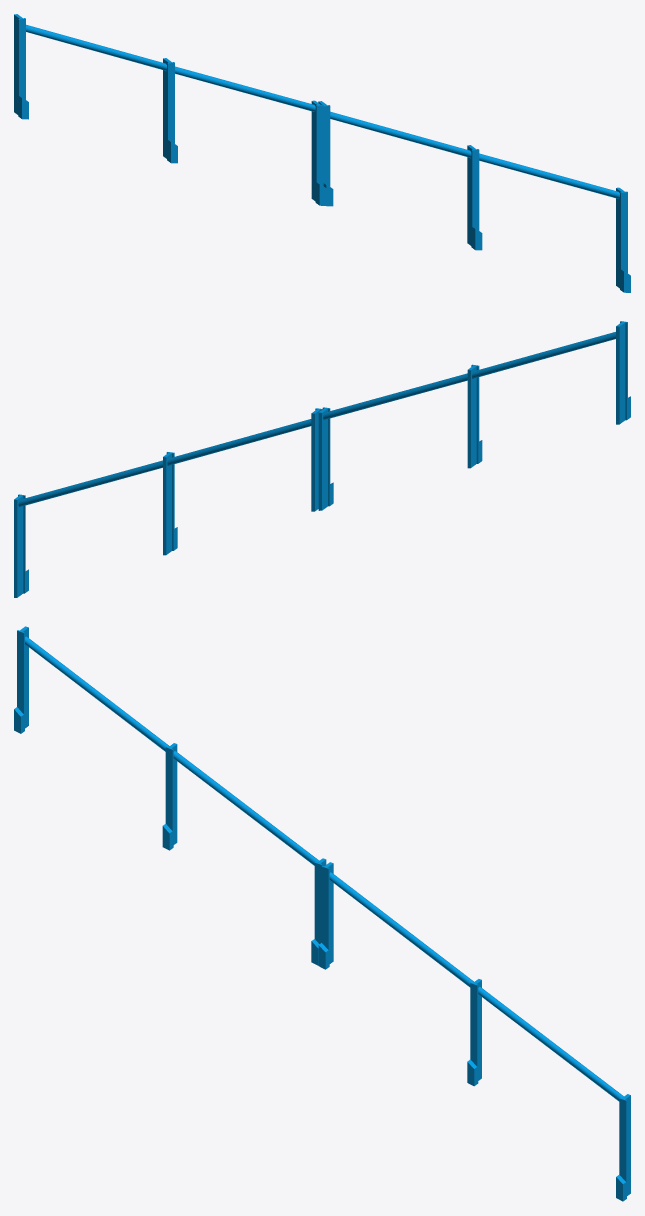
Rendered from Metal_Stairs_01B_Rail.fbx.
3 views of the same model, one above another, from view 1: azimuth 30°, elevation 25°; view 2: azimuth 150°, elevation 25°; view 3: azimuth 330°, elevation 25° (orthographic).
Parts seen in each view (by area): view 1: Metal_Stairs_01B_Rail; view 2: Metal_Stairs_01B_Rail; view 3: Metal_Stairs_01B_Rail.
Part boxes in pixels (left/top/right/bottom): Metal_Stairs_01B_Rail: left=14, top=14, right=630, bottom=292; Metal_Stairs_01B_Rail: left=14, top=321, right=630, bottom=597; Metal_Stairs_01B_Rail: left=14, top=626, right=630, bottom=1201.
Size of the model in its own units: 594 by 391 by 16.95.
